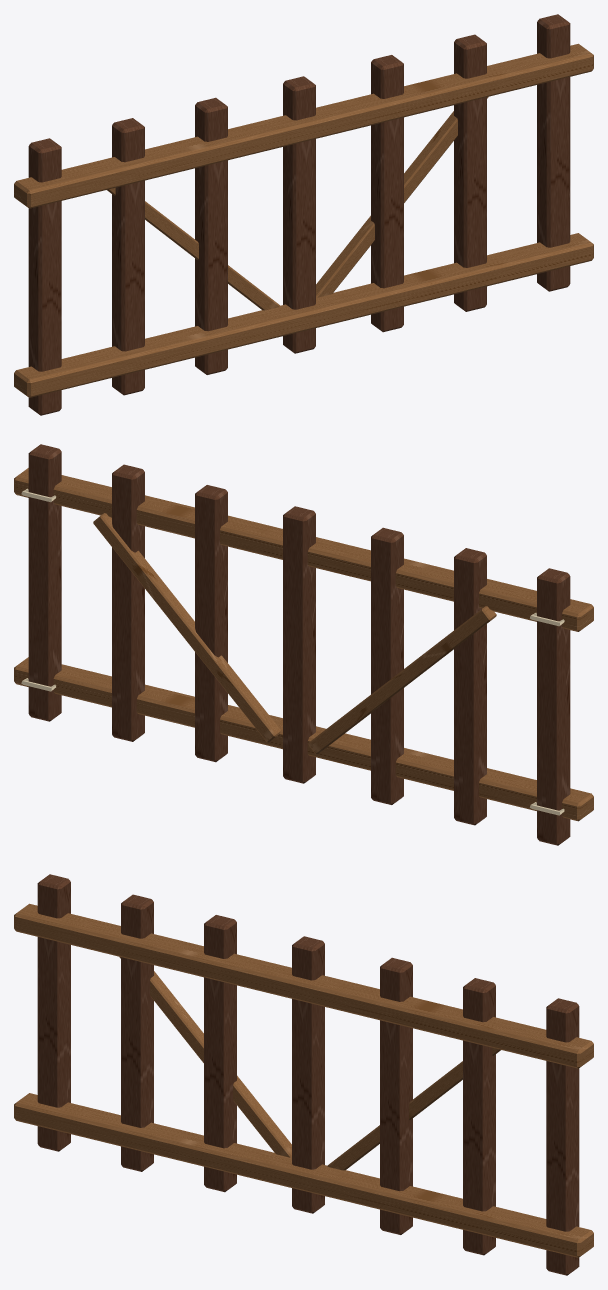
Rendered from gate.glb.
3 renders of one model, top to bottom at view 1: azimuth 30°, elevation 25°; view 2: azimuth 150°, elevation 25°; view 3: azimuth 330°, elevation 25°, orthographic.
Visible parts, largest first — view 1: UnevenSlat; view 2: UnevenSlat; view 3: UnevenSlat.
Boxes of the visible parts, left/top/right/bottom form: UnevenSlat: left=14, top=14, right=593, bottom=415; UnevenSlat: left=14, top=444, right=593, bottom=845; UnevenSlat: left=14, top=874, right=593, bottom=1275.
Size of the model in its own units: 5.8 by 2.6 by 0.3752.
Materials: 3 (2 with a texture image).
